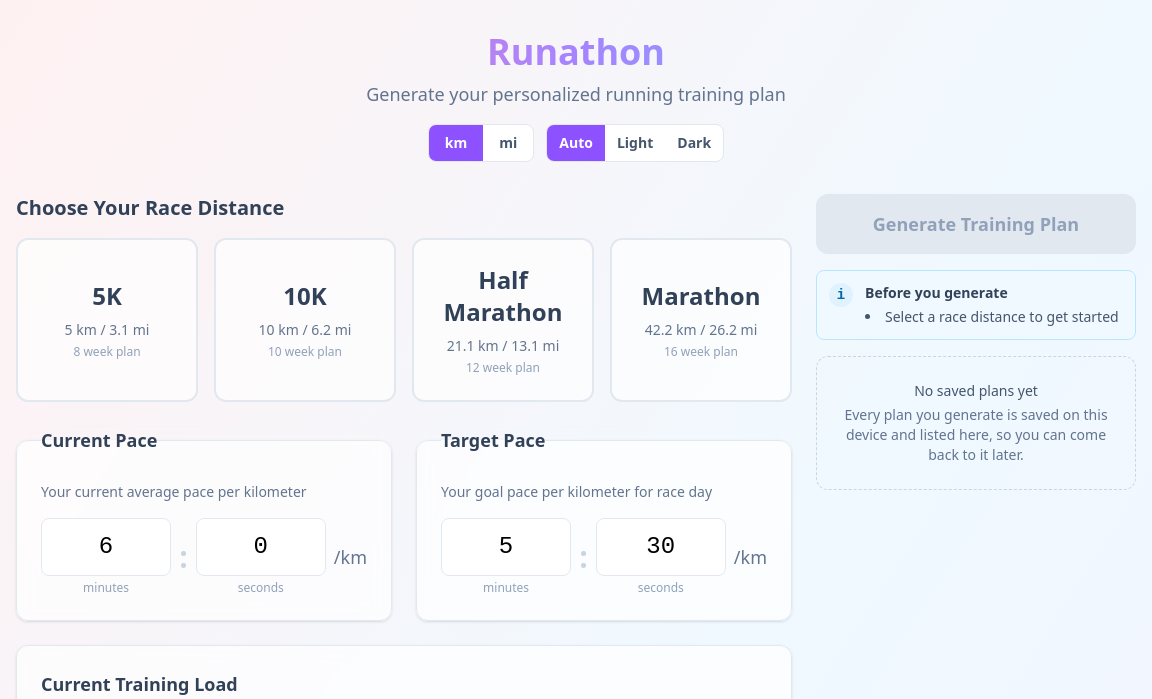
Scenario: App › copies a share link for the current plan
This screenshot has width=1152, height=699.
Click the button with aria-label "10K, 10 kilometers".
click(305, 320)  # box [214, 238, 396, 402]
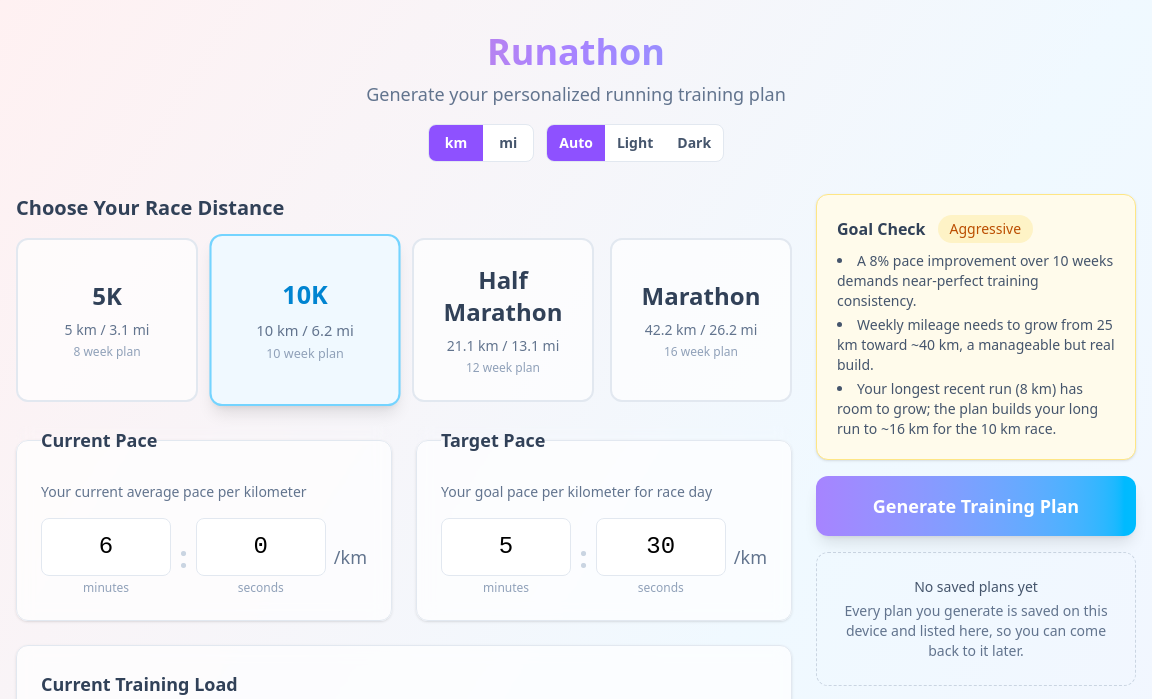
Click the button with aria-label "generate your personalized training plan".
click(976, 506)  # box [816, 476, 1136, 536]
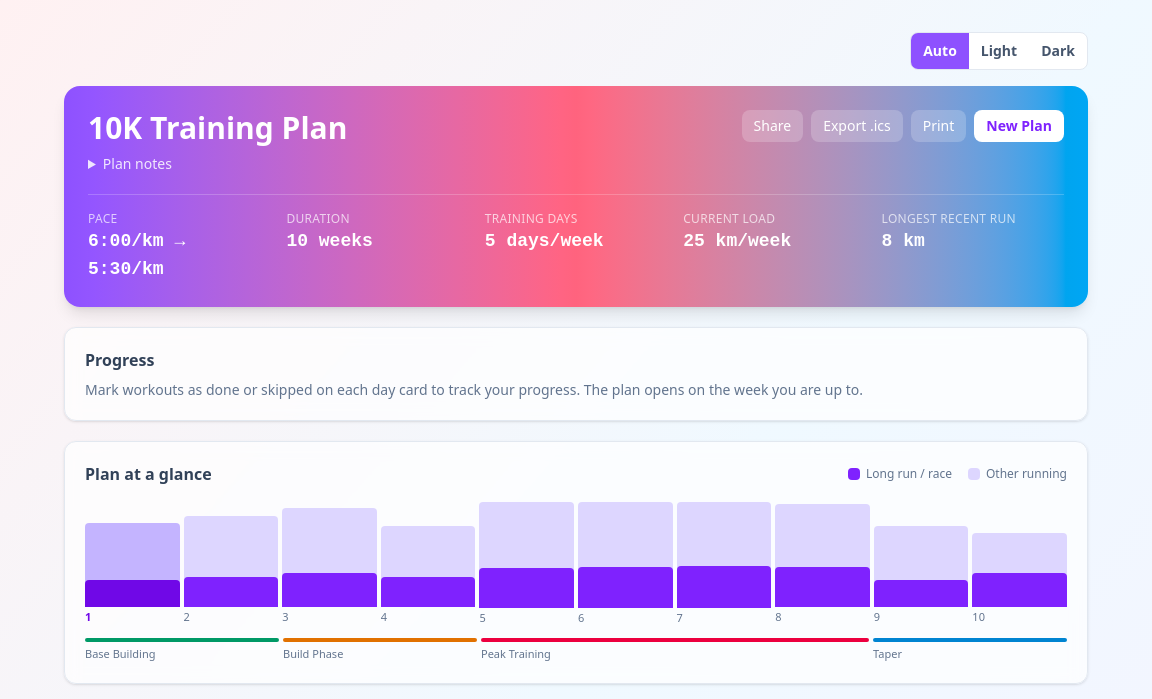
Click the button with aria-label "copy a shareable link".
click(772, 126)  # box [742, 110, 803, 142]
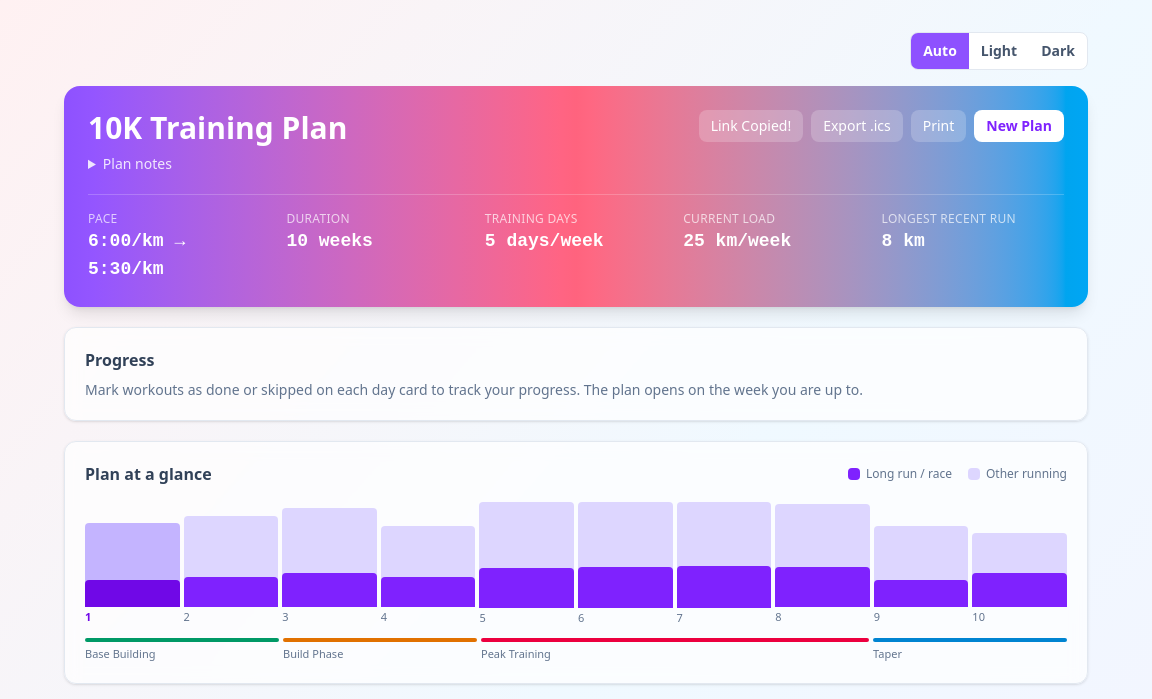
Expected: the button "Link Copied!" is shown, [699, 110, 803, 142]
